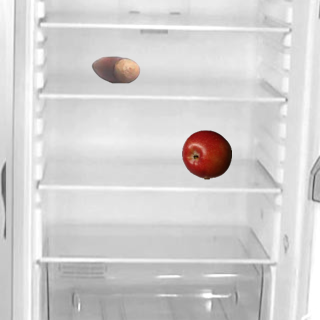Apple Braeburn: (181, 129, 231, 179)
Hazelnut: (90, 44, 140, 94)
